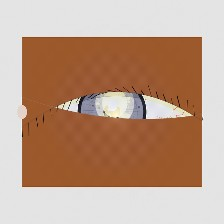corneal_ulcer: (91, 85, 138, 122)
